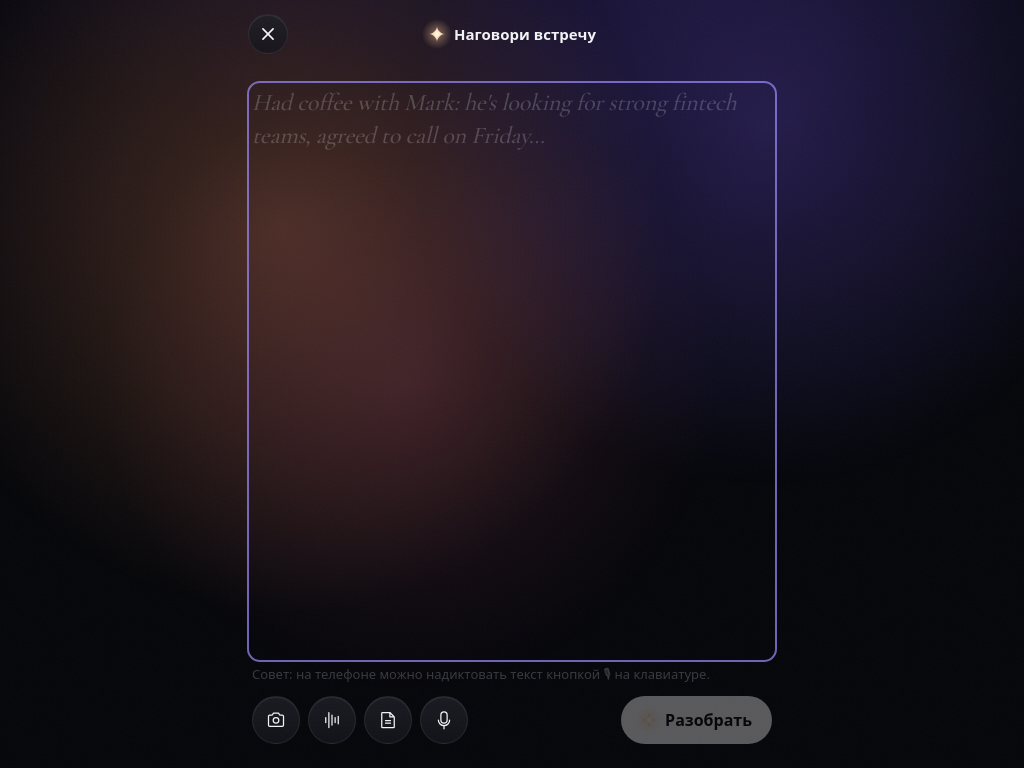
Scenario: dictating a meeting: from text to saved cards › a note with nobody in it says so and cannot be saved
Earlier steps of the test are not shown.
Type keys "сегодня была хорошая погода и всё"
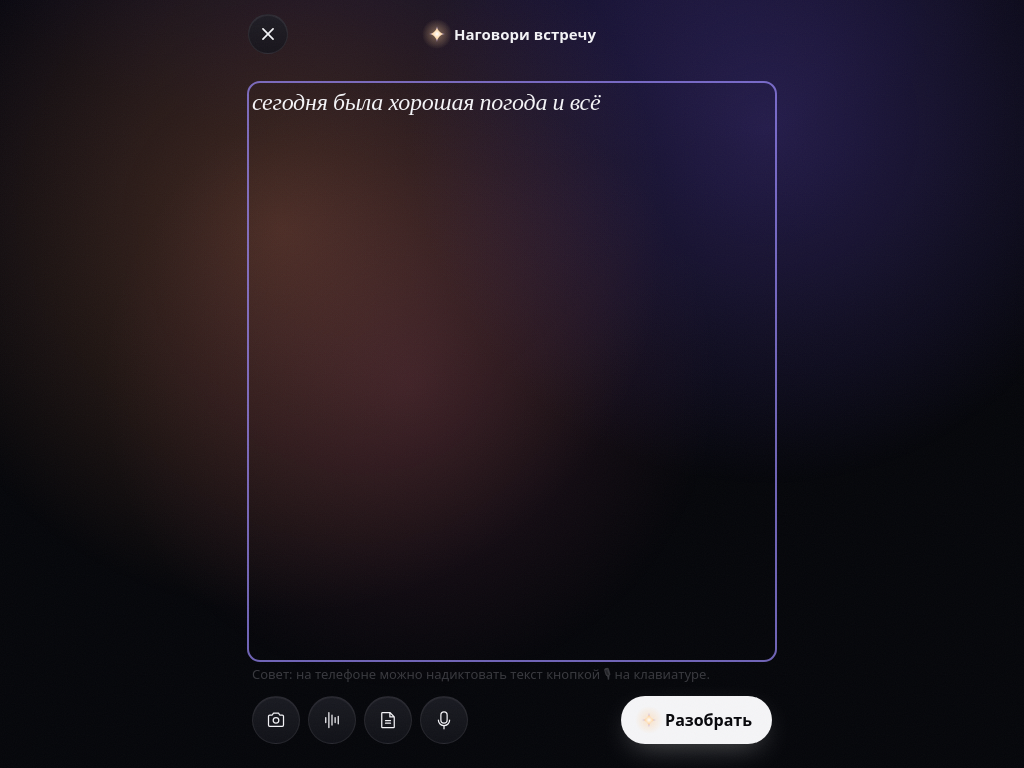
Click the button "Разобрать" at (697, 720), box [621, 696, 772, 744]
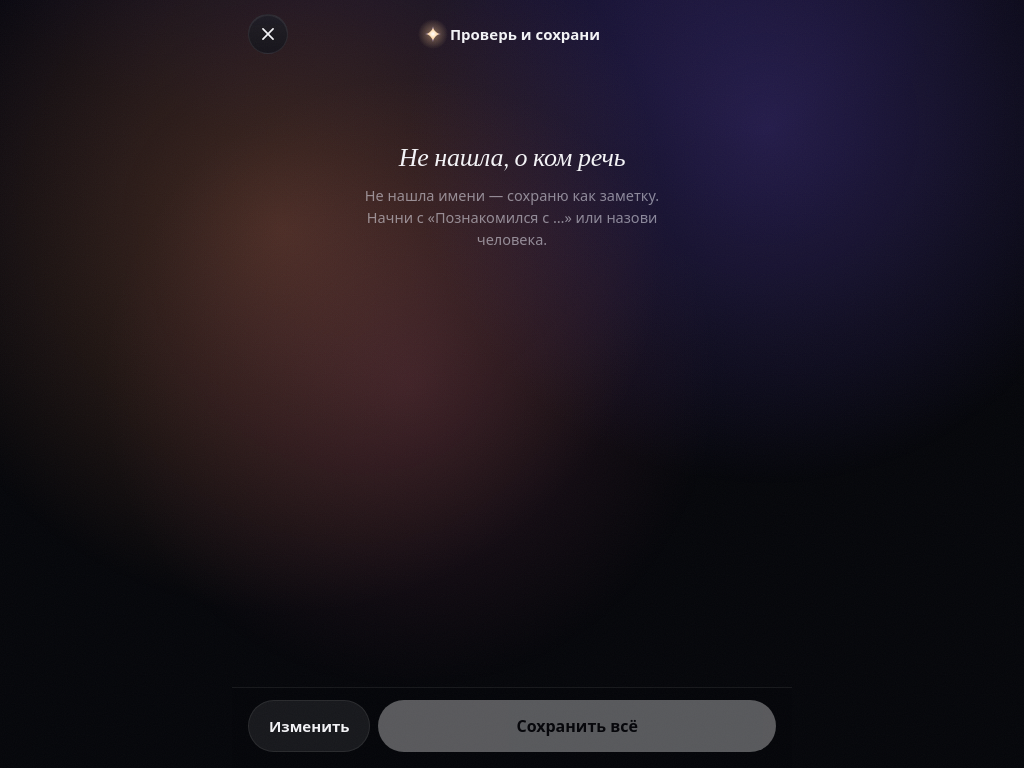
Check: the text "Не нашла, о ком речь" is shown, box [399, 142, 625, 173]
Check: the button "Сохранить всё" is disabled, box [378, 700, 776, 752]
